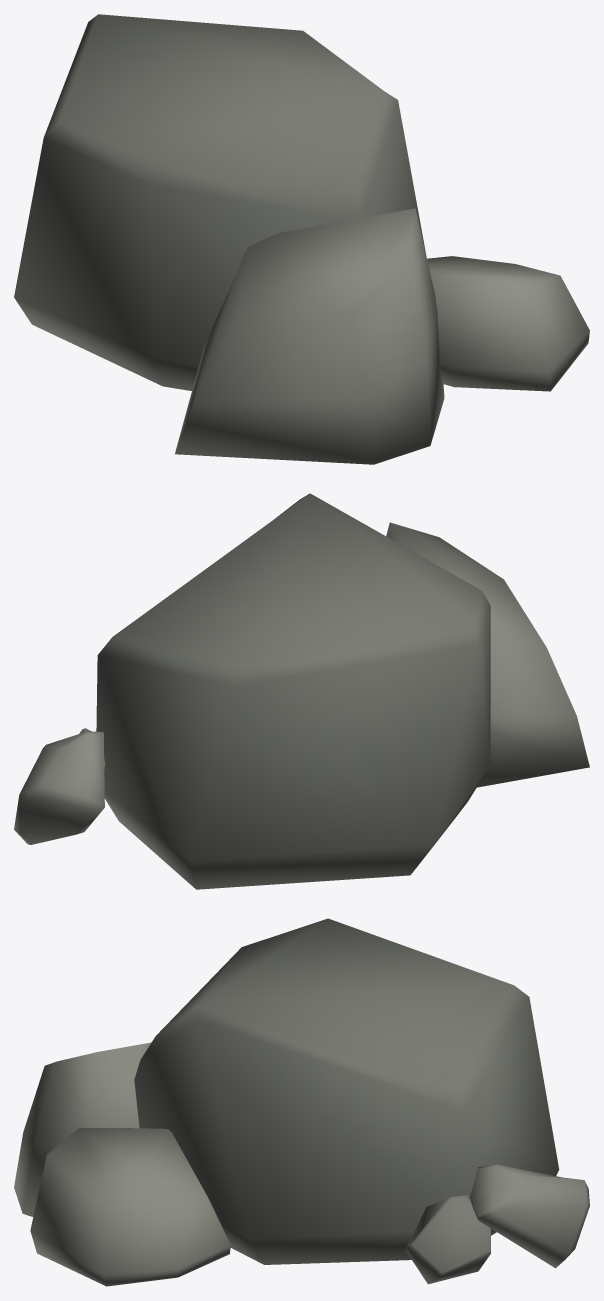
File: MDL_Rock_05.fbx
3 views of the same model, one above another, from view 1: azimuth 30°, elevation 25°; view 2: azimuth 150°, elevation 25°; view 3: azimuth 270°, elevation 25° (orthographic). The views are drawn at different scales.
Visible parts, largest first — view 1: RockClump_E.001; view 2: RockClump_E.001; view 3: RockClump_E.001.
Part boxes in pixels (box(x1,y1,x2,y2)): RockClump_E.001: box(14, 14, 589, 464); RockClump_E.001: box(14, 493, 589, 889); RockClump_E.001: box(14, 918, 589, 1286).
Bounding box in the file's own units: 88.59 × 54.79 × 123.
Materials: 1 (1 with a texture image).
